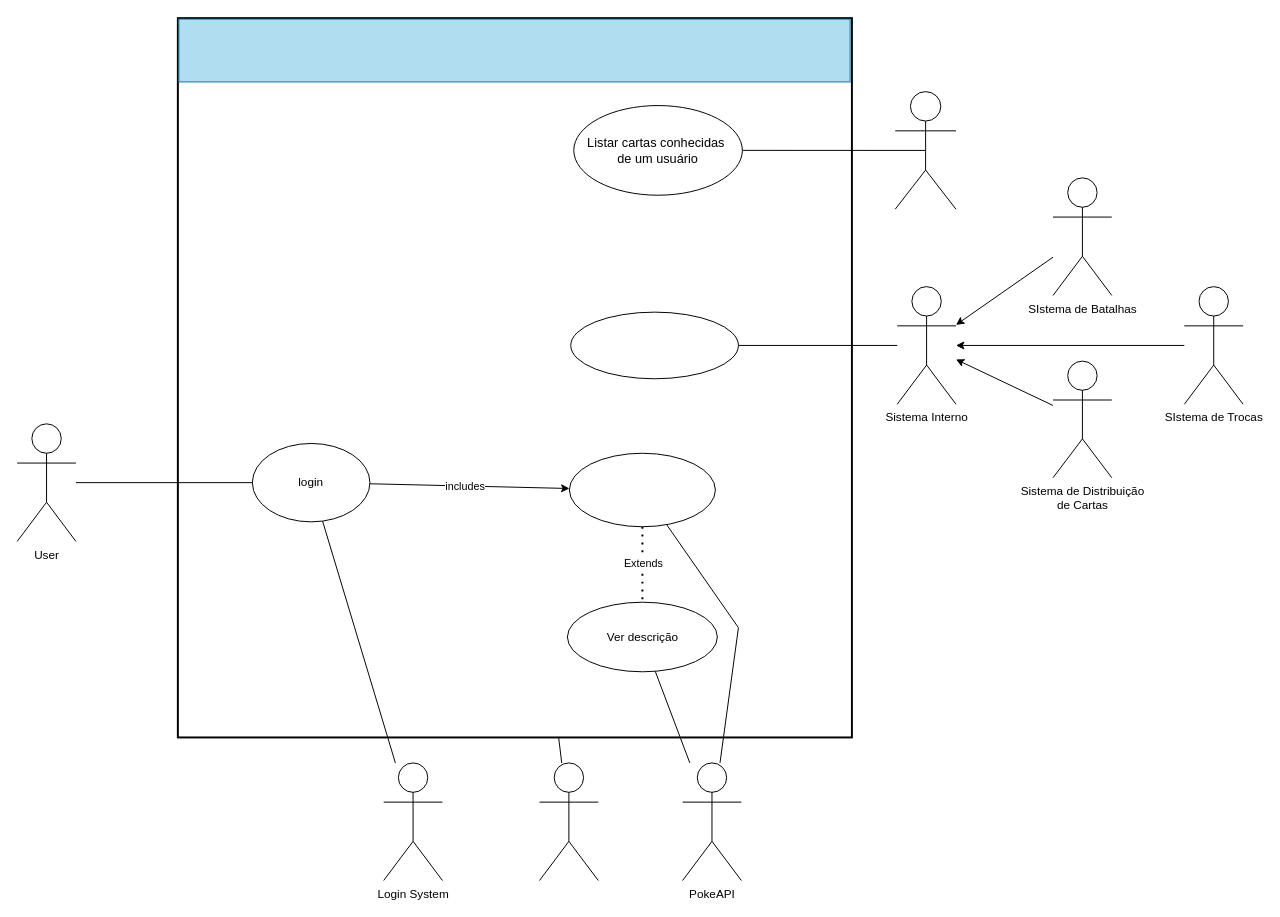
Some shapes in this 1280 by 917 pixel diagram are drawn without their labels. The box of each missing label's shape, as (x1, y1, x2, y2) in pixels:
Database: (539, 762, 598, 881)
Painel de administração: (894, 91, 956, 209)
Registrar carta como conhecida: (570, 311, 738, 379)
Sistema: (178, 18, 850, 82)
Ver cartas conhecidas: (568, 452, 715, 527)
